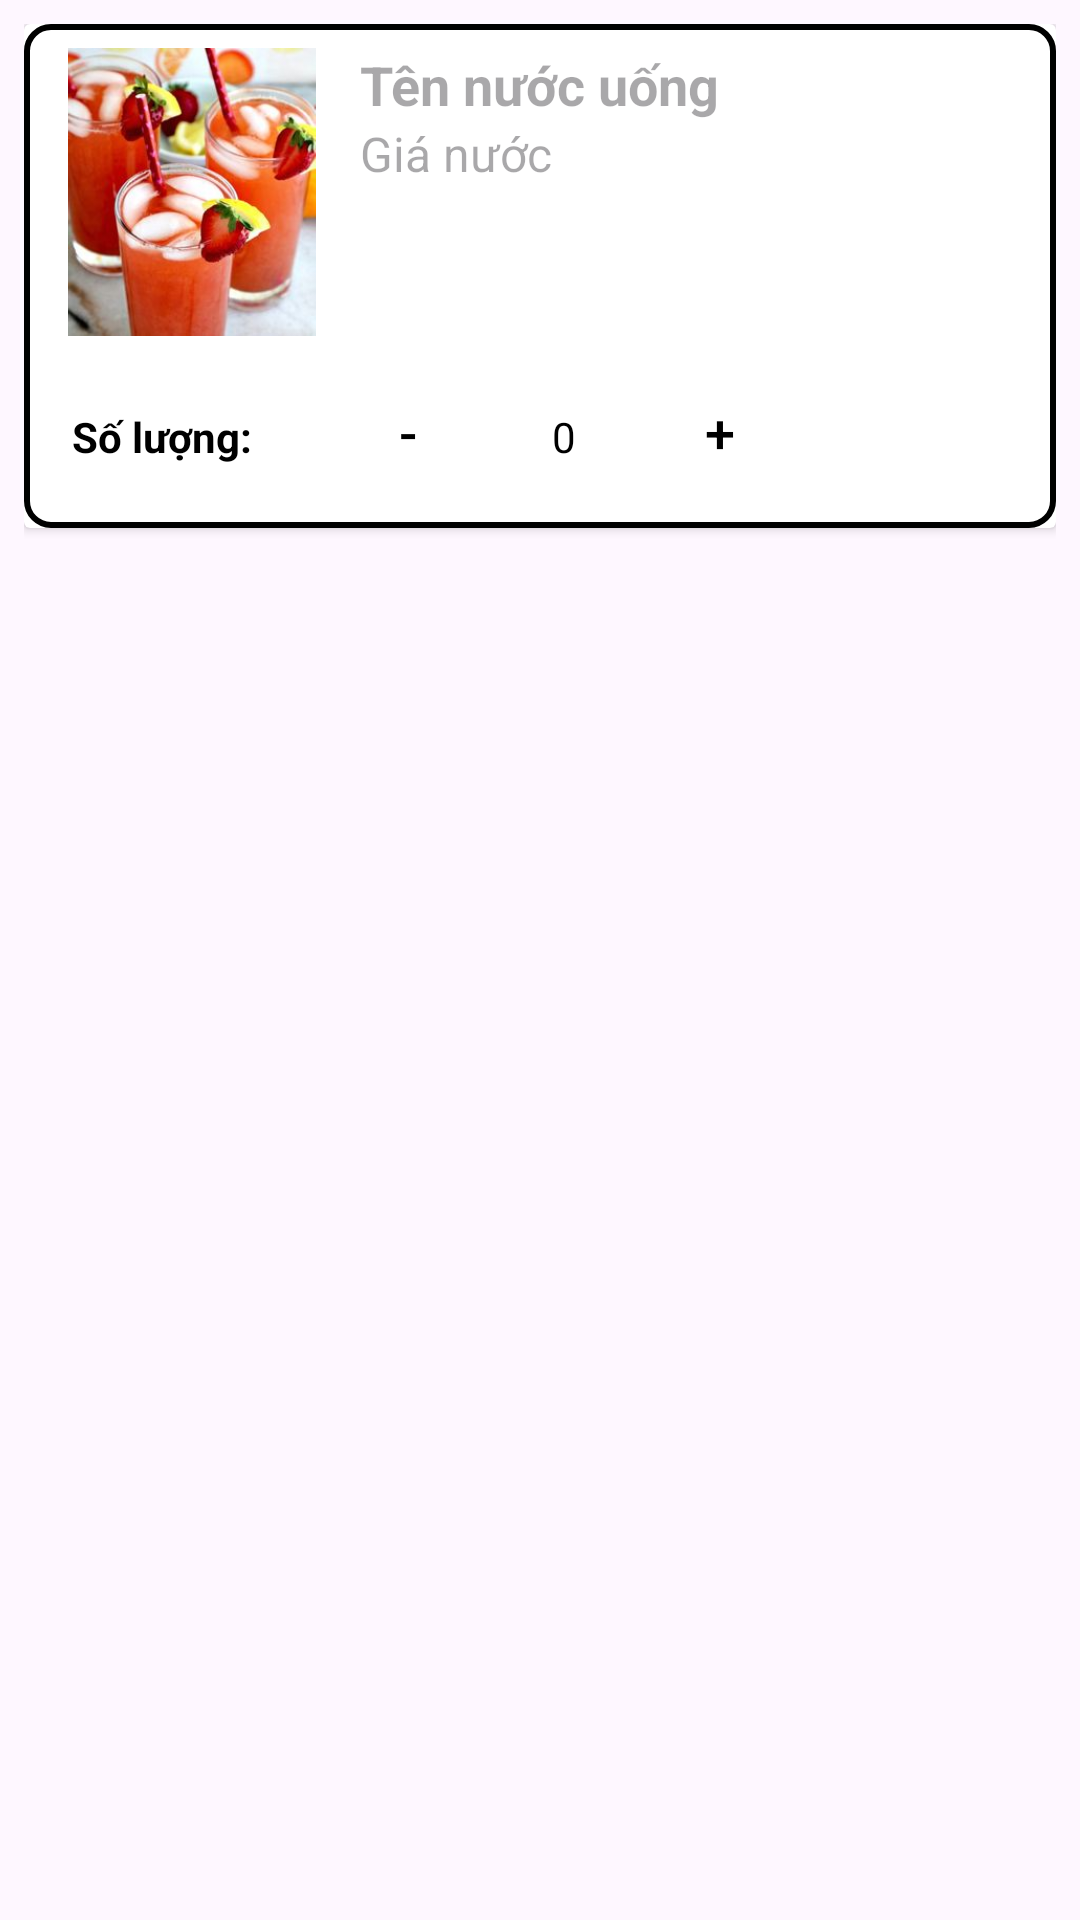

Icons on this 1080px x 1920px Android screen, each with the point to tap as point (x, y):
tradau: point (192, 192)
